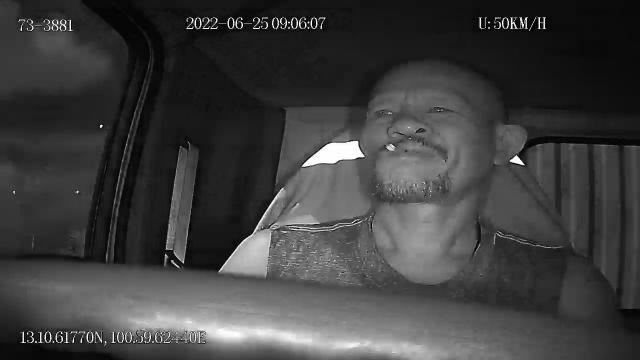SafeDriving: (420, 93, 466, 122)
Smoking: (383, 142, 409, 158)
